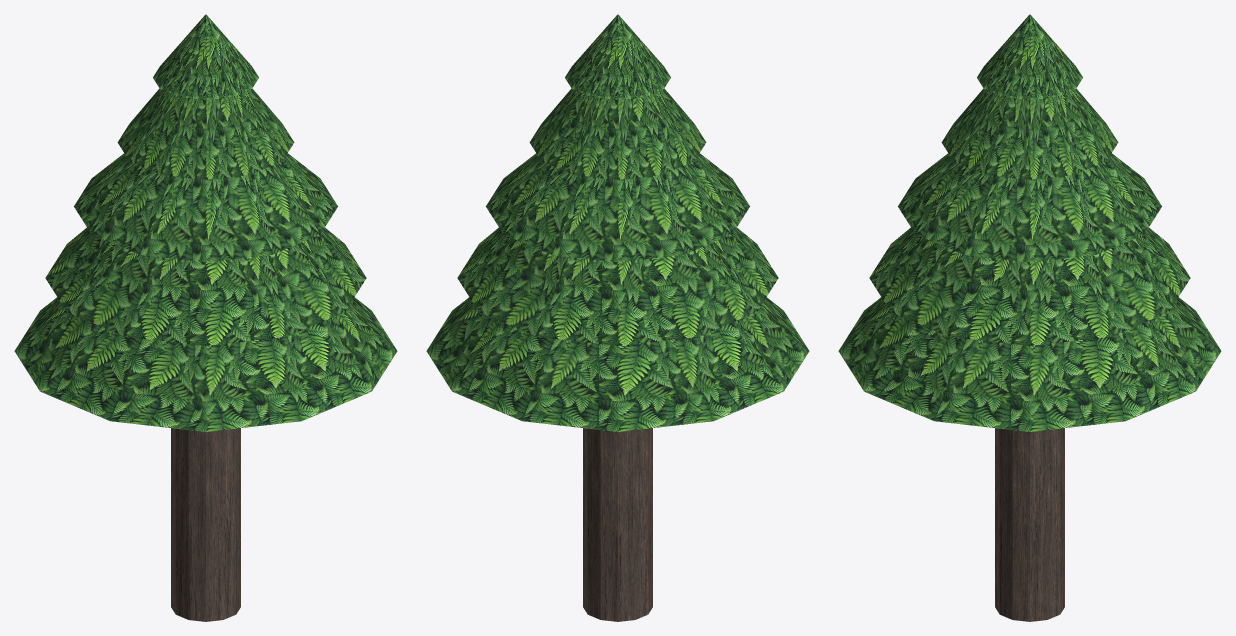
File: pino_grande.fbx
3 views of the same model, side by side, from view 1: azimuth 30°, elevation 25°; view 2: azimuth 150°, elevation 25°; view 3: azimuth 270°, elevation 25° (orthographic).
Parts seen in each view (by area): view 1: Cylinder.001; view 2: Cylinder.001; view 3: Cylinder.001.
Part boxes in pixels (x1,y1,x2,y2): Cylinder.001: (14, 14, 397, 621); Cylinder.001: (426, 14, 809, 621); Cylinder.001: (838, 14, 1221, 621).
Bounding box in the file's own units: 819 × 1400 × 819.
3 materials, 2 textured.
